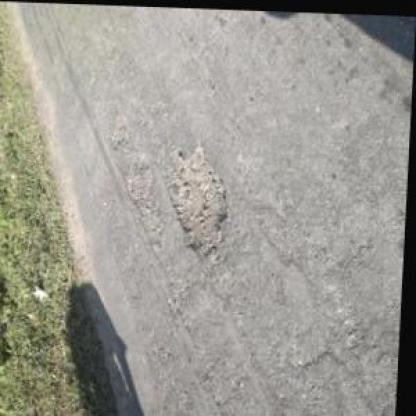pothole: (162, 139, 235, 265), (122, 154, 171, 248), (110, 110, 133, 148)
